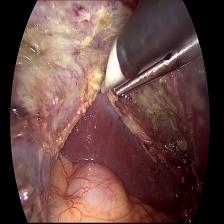Grasper: (114, 31, 200, 103)
Hook: (89, 32, 126, 98)
